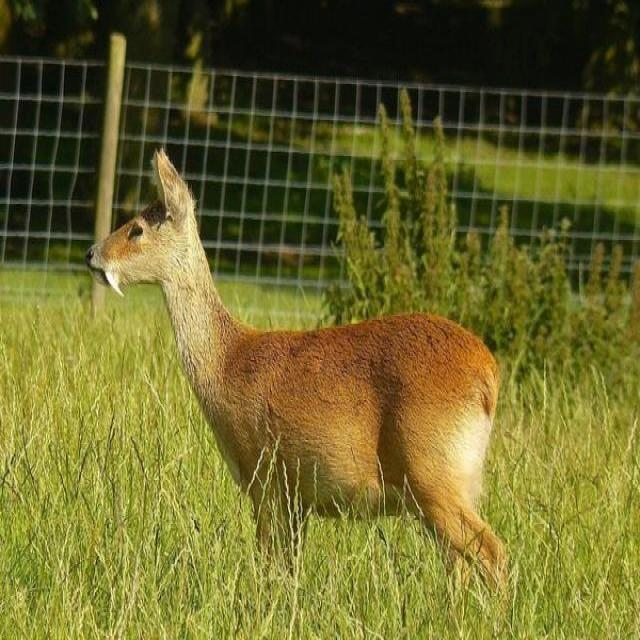deer: (73, 135, 524, 614)
